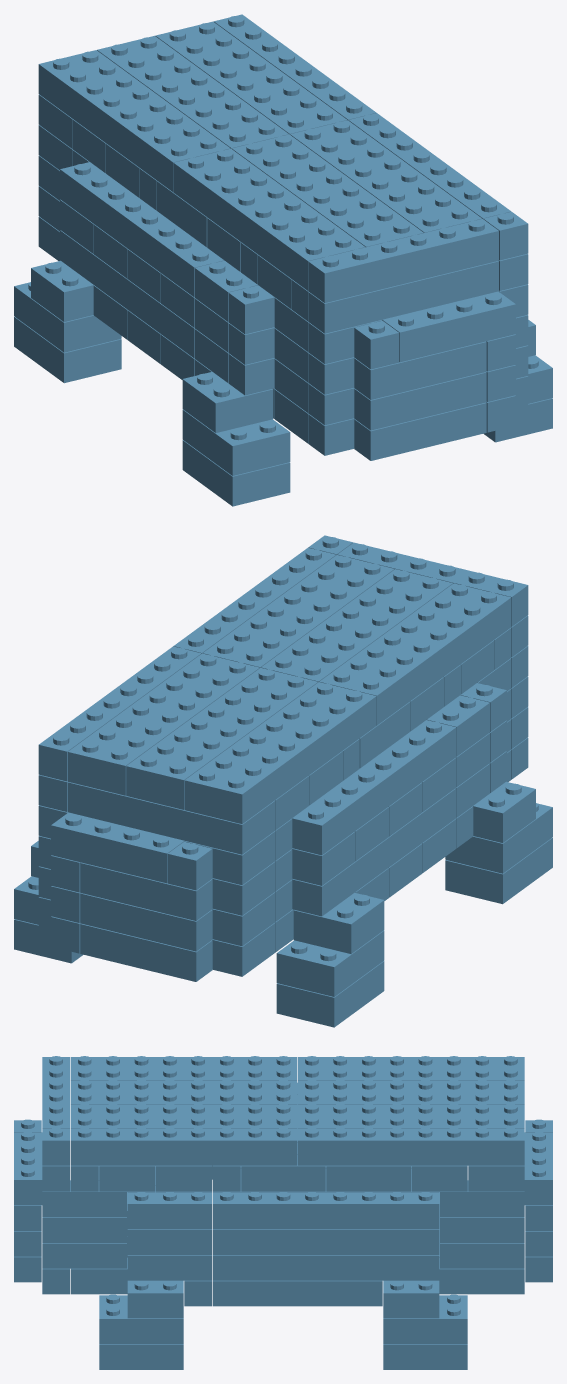
The model's file is collab_bus-L2-C1_raw.glb.
3 renders of one model, top to bottom at view 1: azimuth 30°, elevation 25°; view 2: azimuth 150°, elevation 25°; view 3: azimuth 270°, elevation 25°, orthographic. The views are drawn at different scales.
Bounding box in the file's own units: 10.98 × 8.13 × 18.98.
